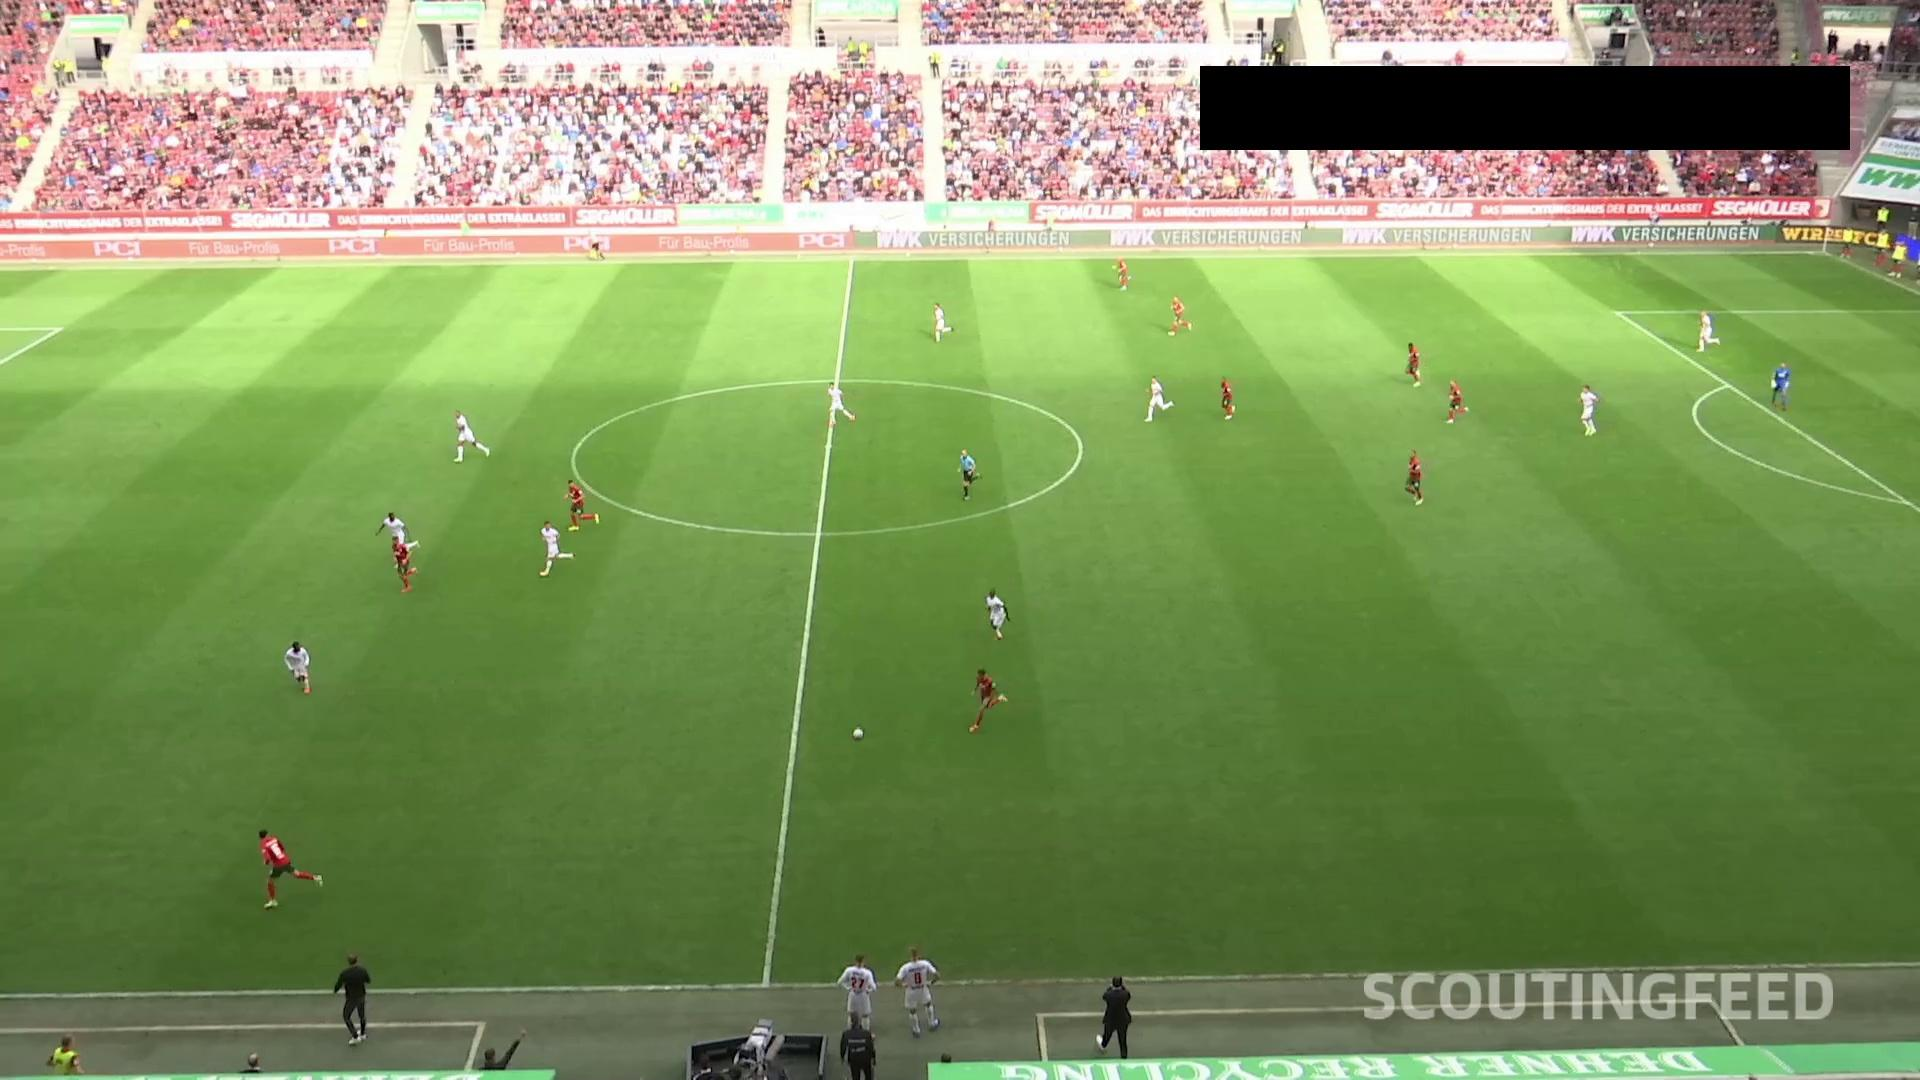Location-of-ball: (845, 721, 870, 752)
